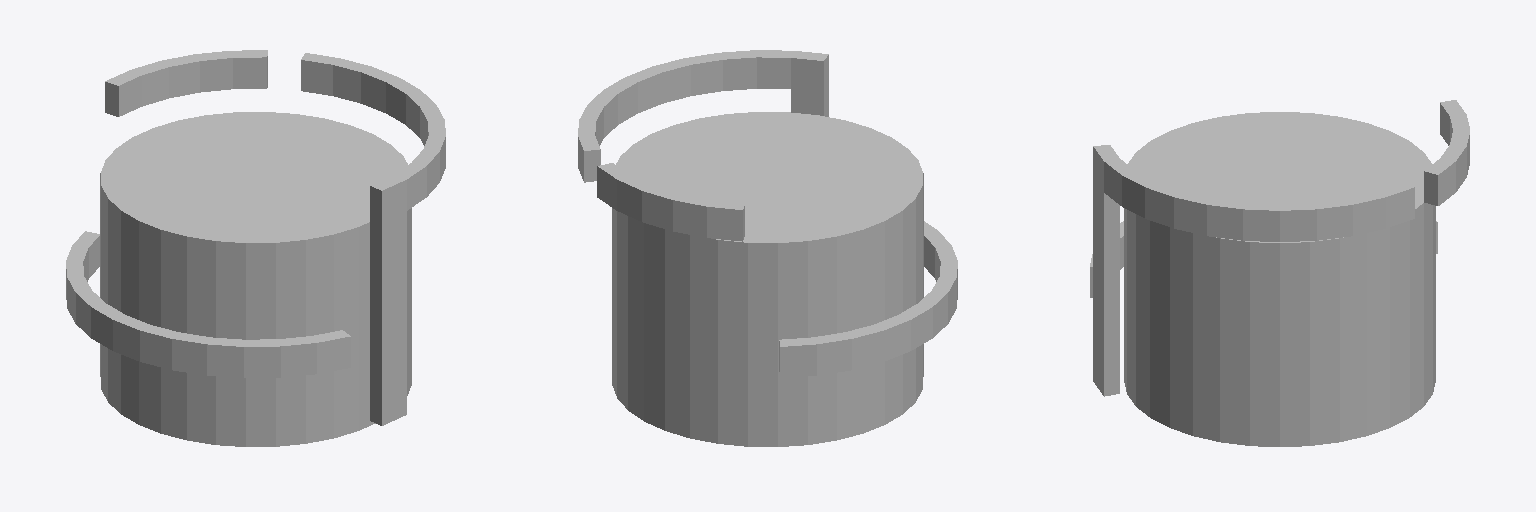
Rendered from bucket-neon.obj.
3 renders of one model, left to right at view 1: azimuth 30°, elevation 25°; view 2: azimuth 150°, elevation 25°; view 3: azimuth 270°, elevation 25°, orthographic.
Visible parts, largest first — view 1: paint_Circle.001, Neon_Circle.002; view 2: paint_Circle.001, Neon_Circle.002; view 3: paint_Circle.001, Neon_Circle.002.
Boxes of the visible parts, x1=… form: paint_Circle.001: x1=100, y1=112, x2=411, y2=446; Neon_Circle.002: x1=66, y1=50, x2=445, y2=425; paint_Circle.001: x1=612, y1=112, x2=923, y2=446; Neon_Circle.002: x1=578, y1=50, x2=957, y2=377; paint_Circle.001: x1=1124, y1=112, x2=1435, y2=446; Neon_Circle.002: x1=1090, y1=100, x2=1469, y2=396.
Size of the model in its own units: 2.2 by 1.6 by 2.2.